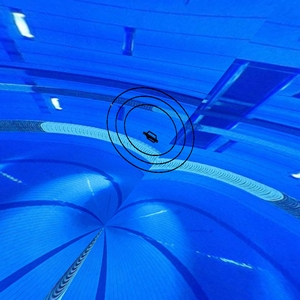circle: (105, 84, 200, 176)
submarine: (142, 126, 162, 147)
